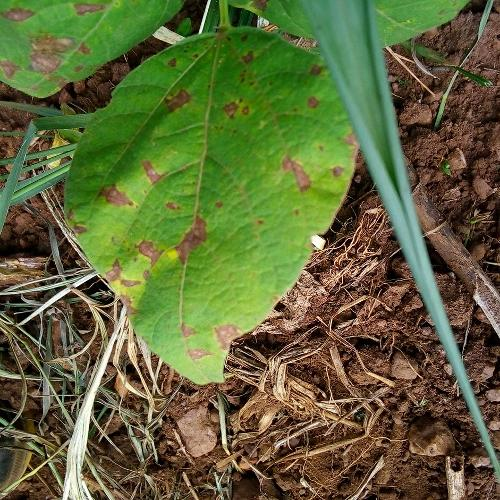mozaik: (83, 184, 240, 364), (233, 111, 342, 226), (170, 75, 223, 186)
